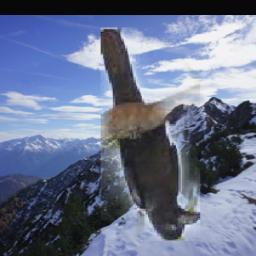Crow: (101, 28, 200, 242)
